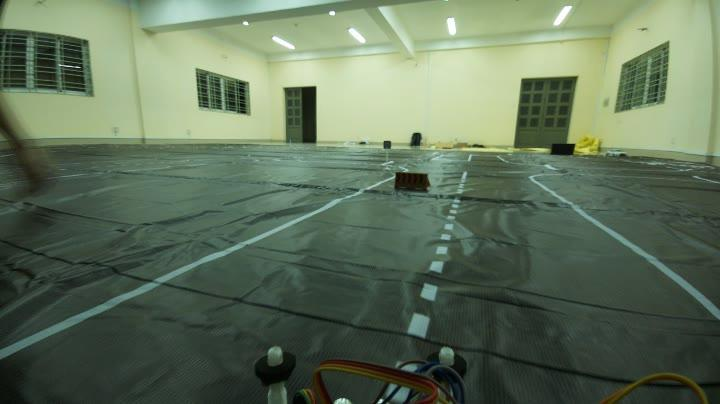roadblock: (387, 166, 437, 200)
